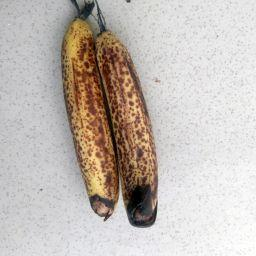banana: (93, 0, 160, 229), (60, 0, 121, 224)
